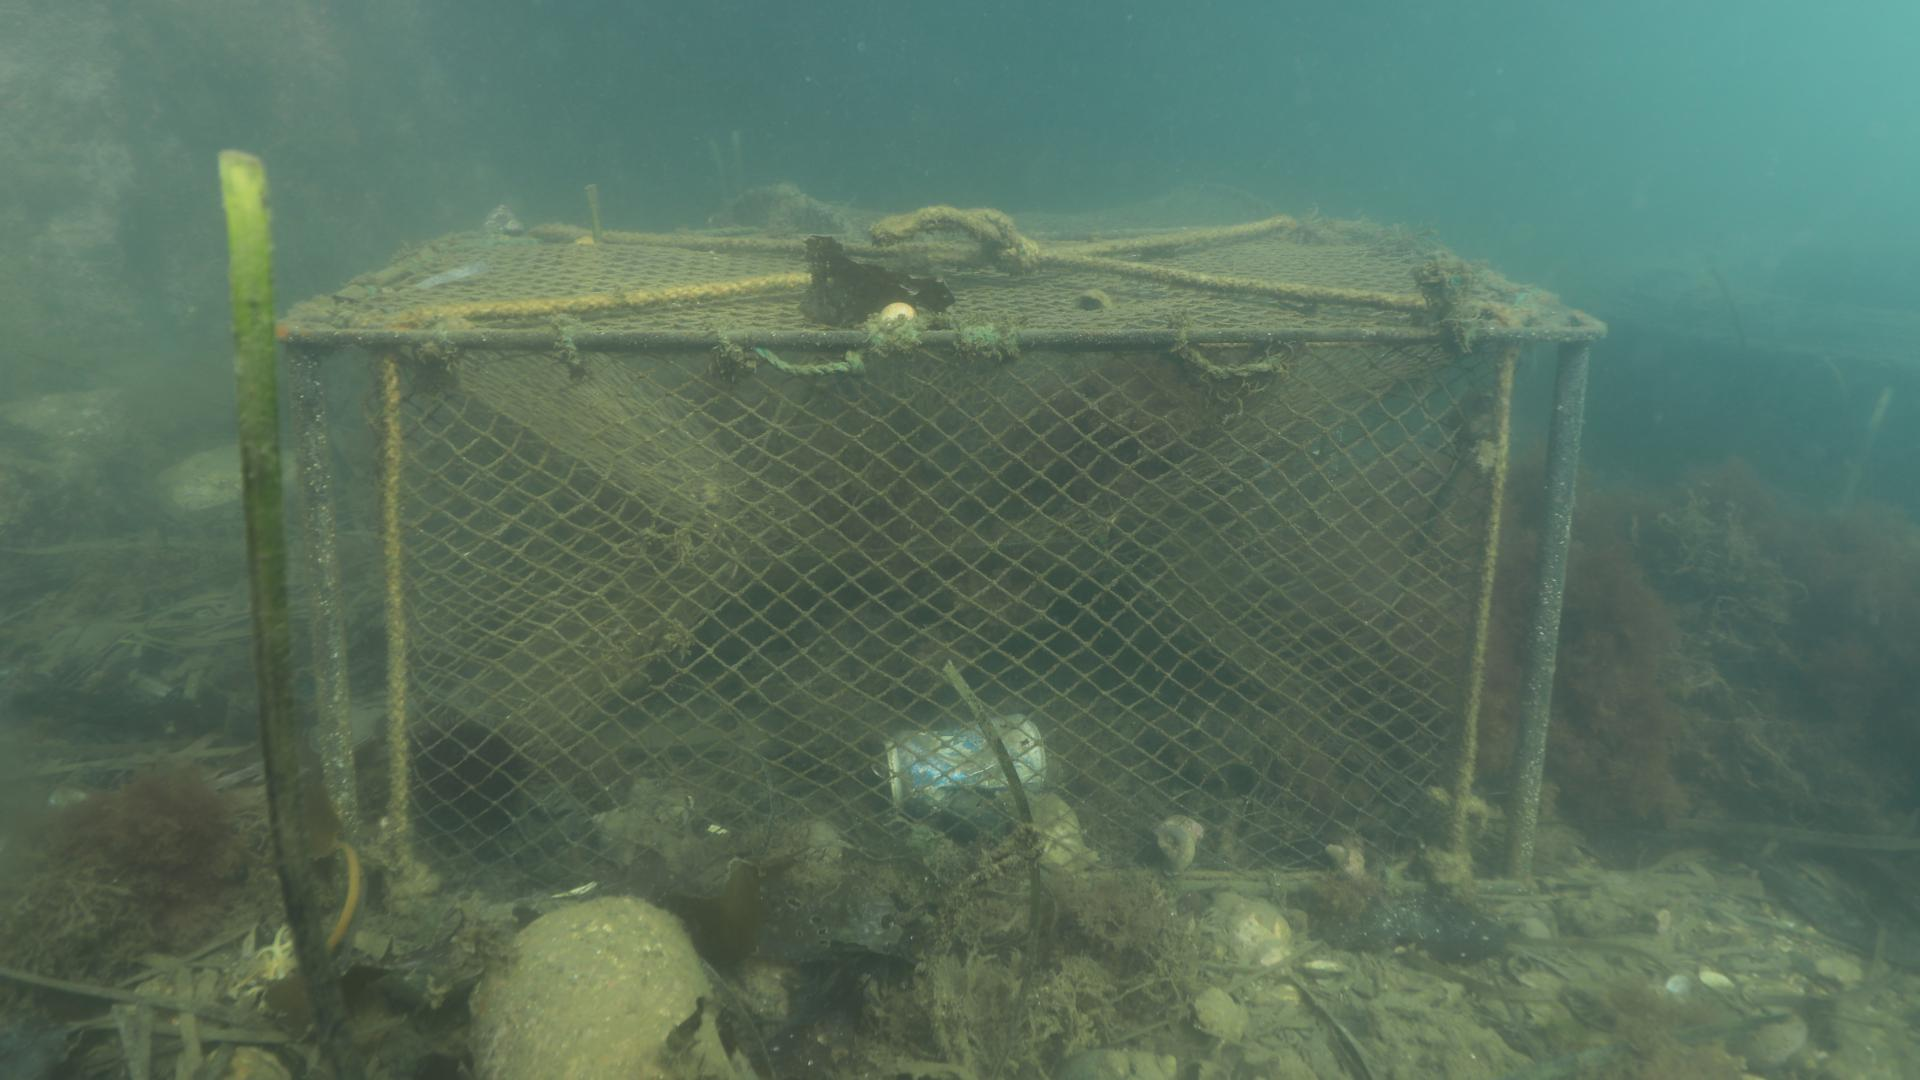rectangular fish trap: (272, 225, 1611, 918)
